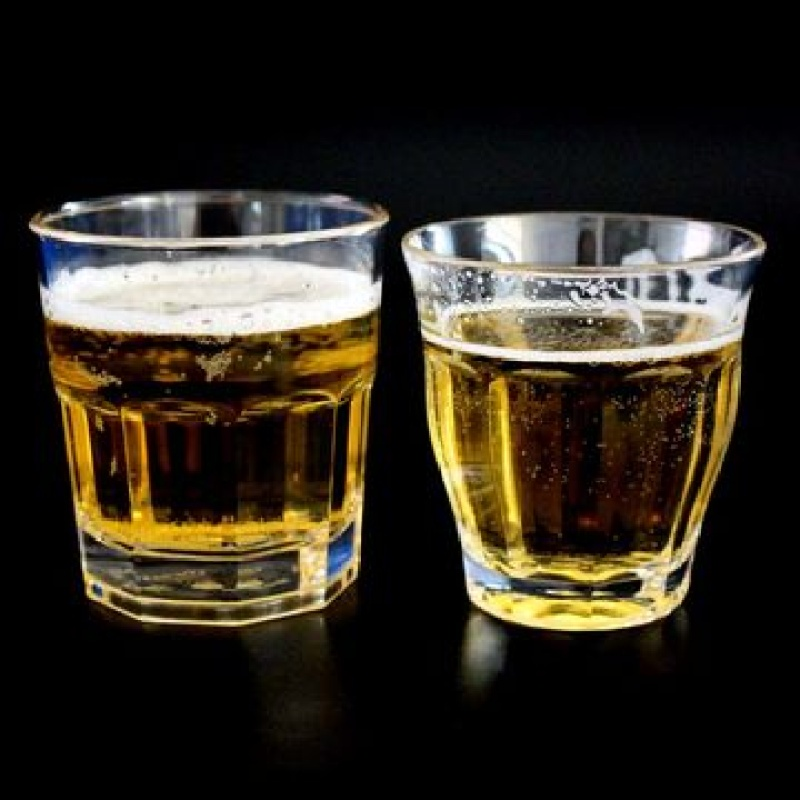whiskey: (20, 187, 384, 619), (403, 192, 733, 635)
